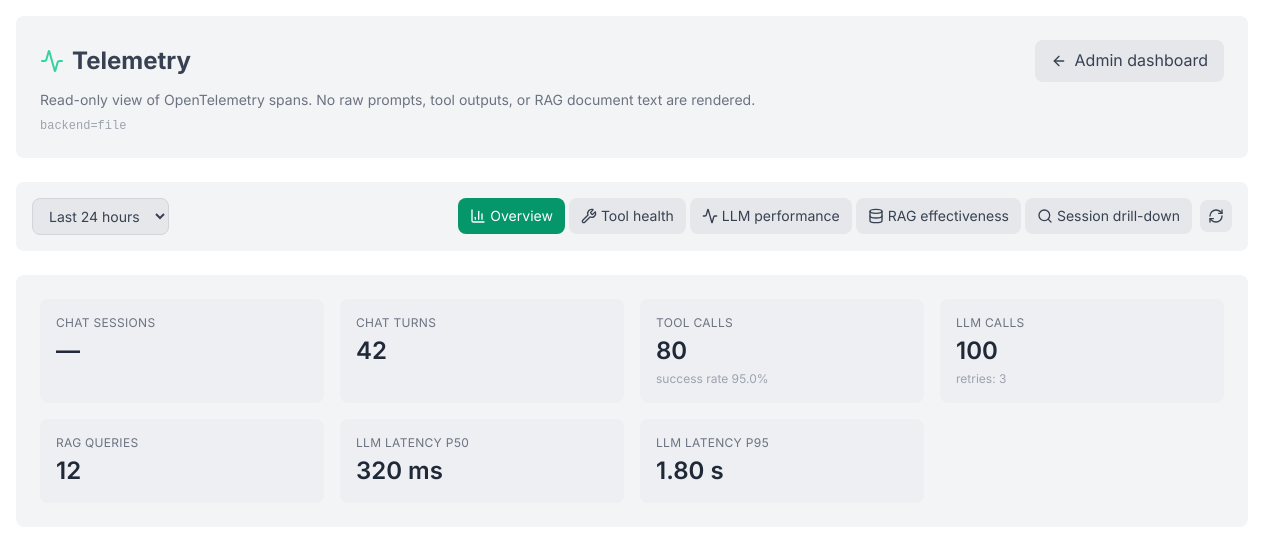
Scenario: TelemetryDashboard › loads per-tool failures when a tool row is clicked and drops stale responses
Expected: the text "Chat turns" is shown, [356, 315, 436, 330]
Click the button "Tool health" at (627, 216), box [569, 198, 686, 234]
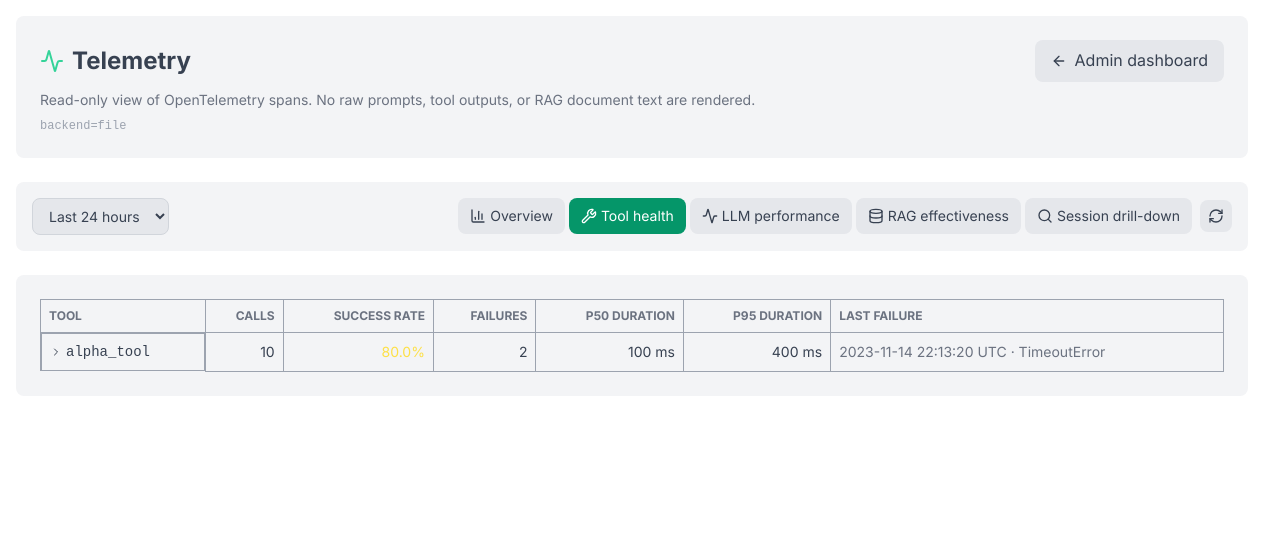
Now the text "alpha_tool" is shown
# Click to open failures (first request, held open)
Click the text "alpha_tool" at (123, 352), box [41, 333, 205, 371]
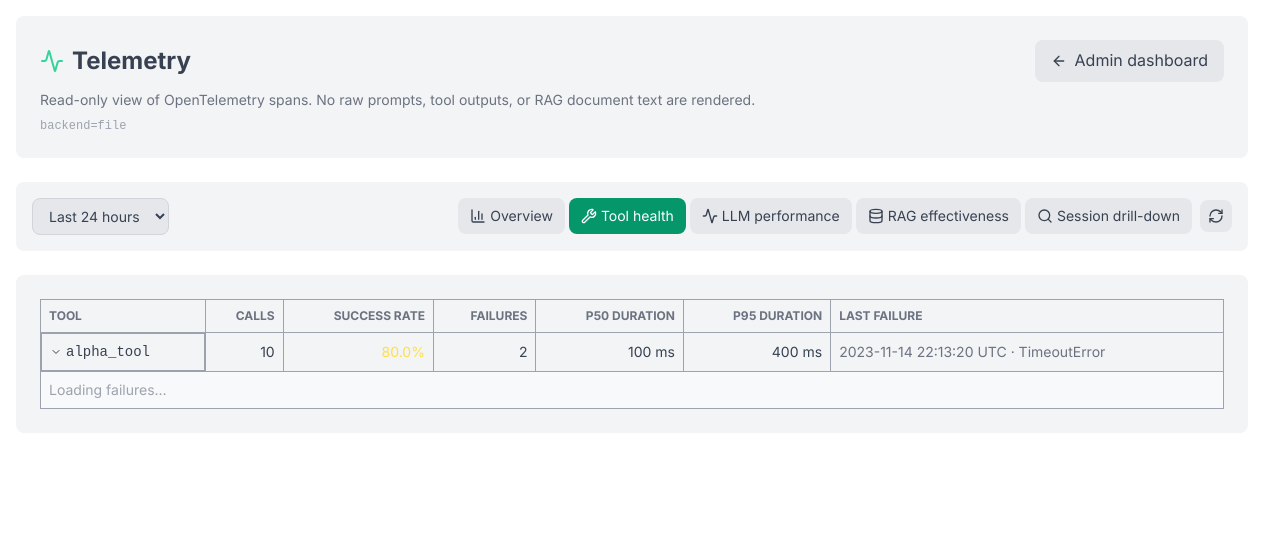
Now the text "Loading failures…" is shown, box [49, 381, 167, 398]
# Close → reopen (second request, superseding the first)
Click the text "alpha_tool" at (123, 352), box [41, 333, 205, 371]
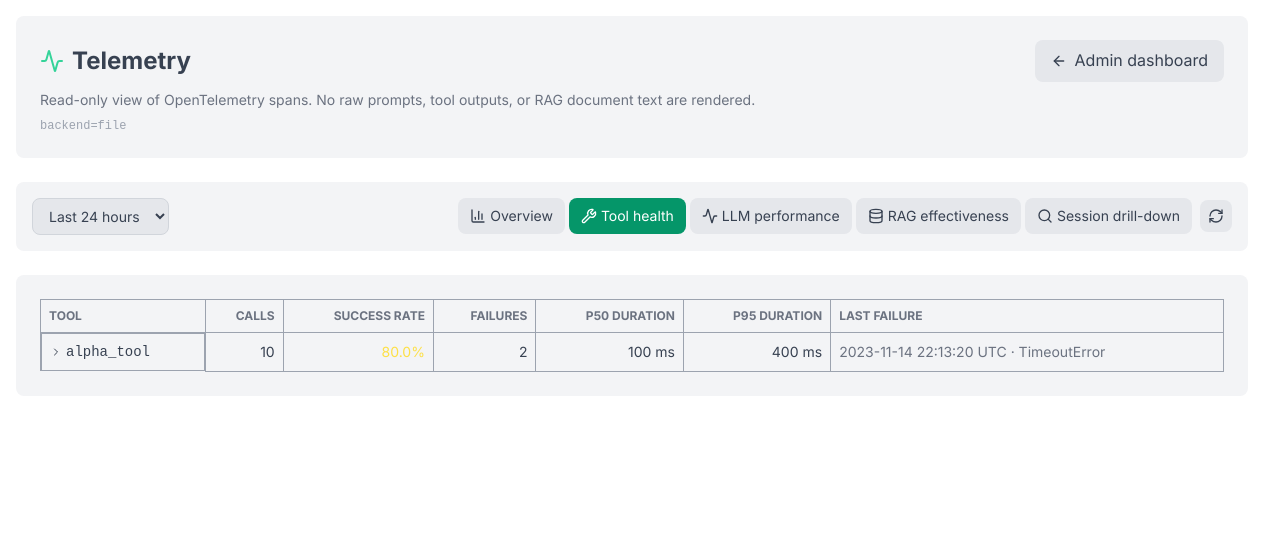
Click the text "alpha_tool" at (123, 352), box [41, 333, 205, 371]
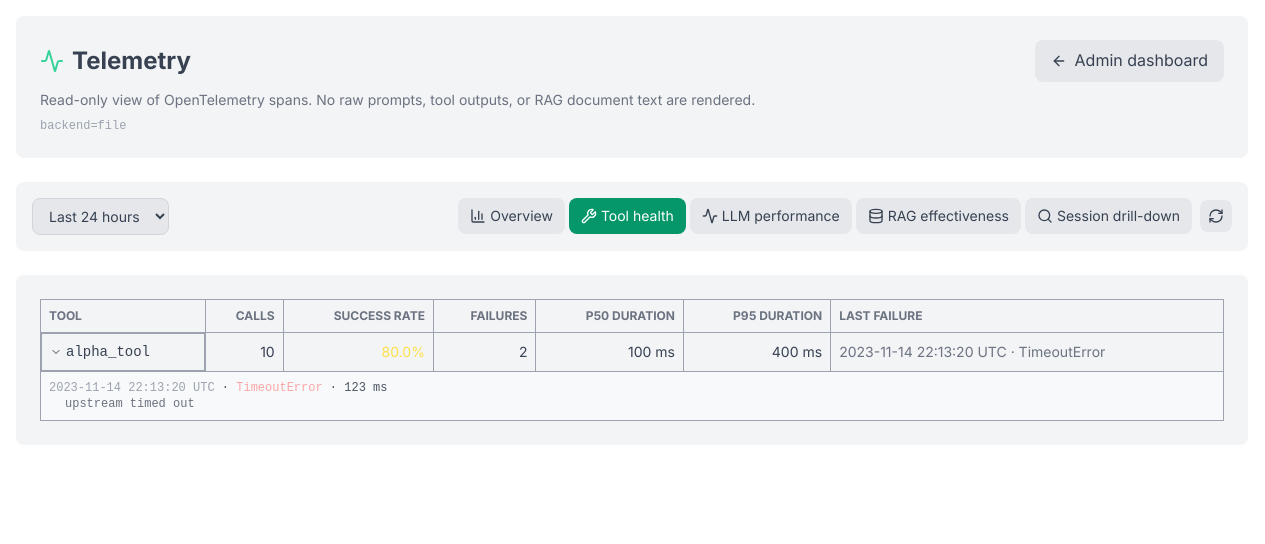
Now the text "upstream timed out" is shown, box [65, 397, 195, 411]
